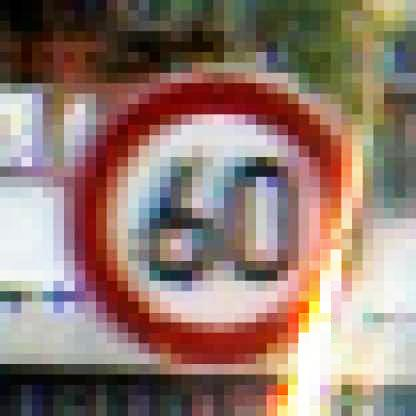Speed Limit -60-: (67, 75, 359, 364)
